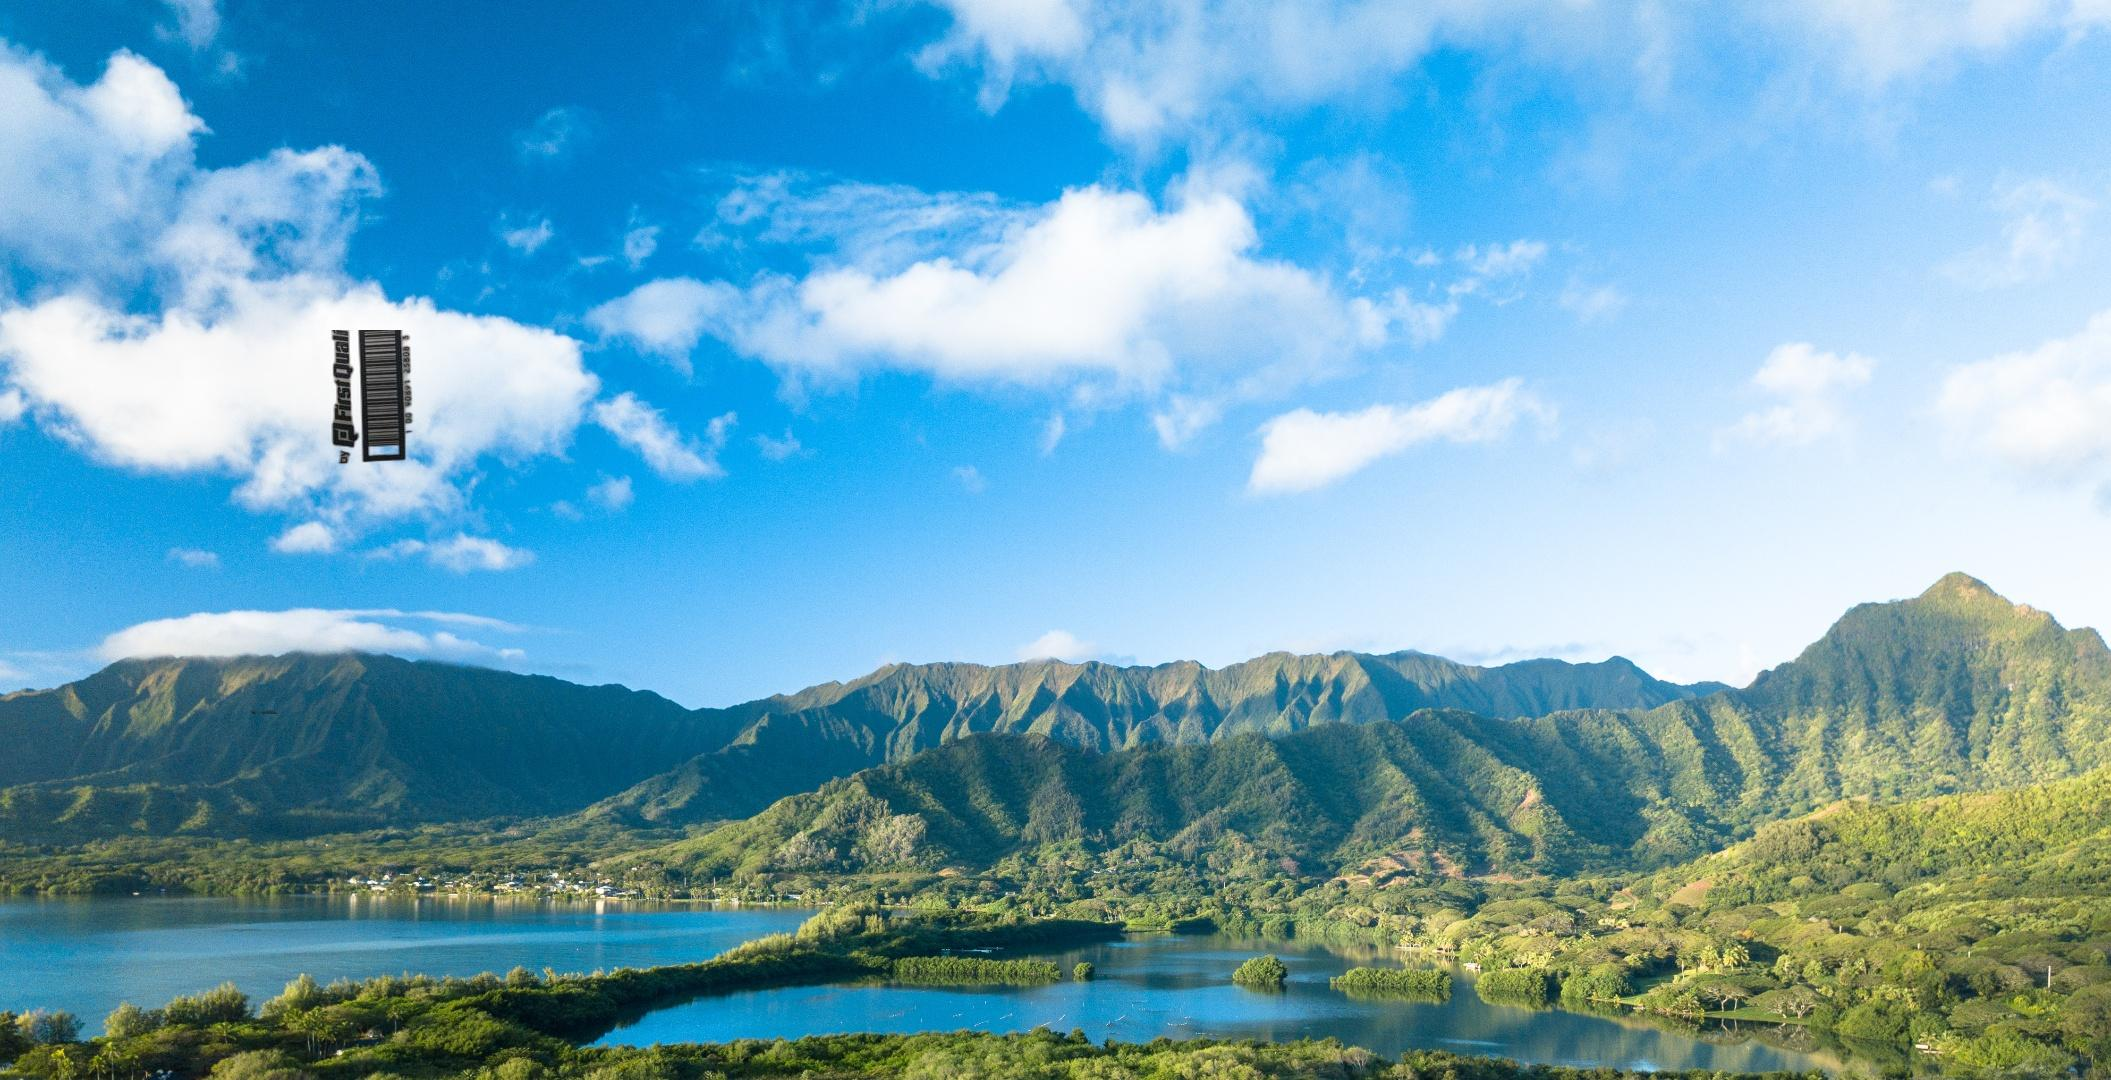trashbox-cardboard: (248, 331, 417, 714)
